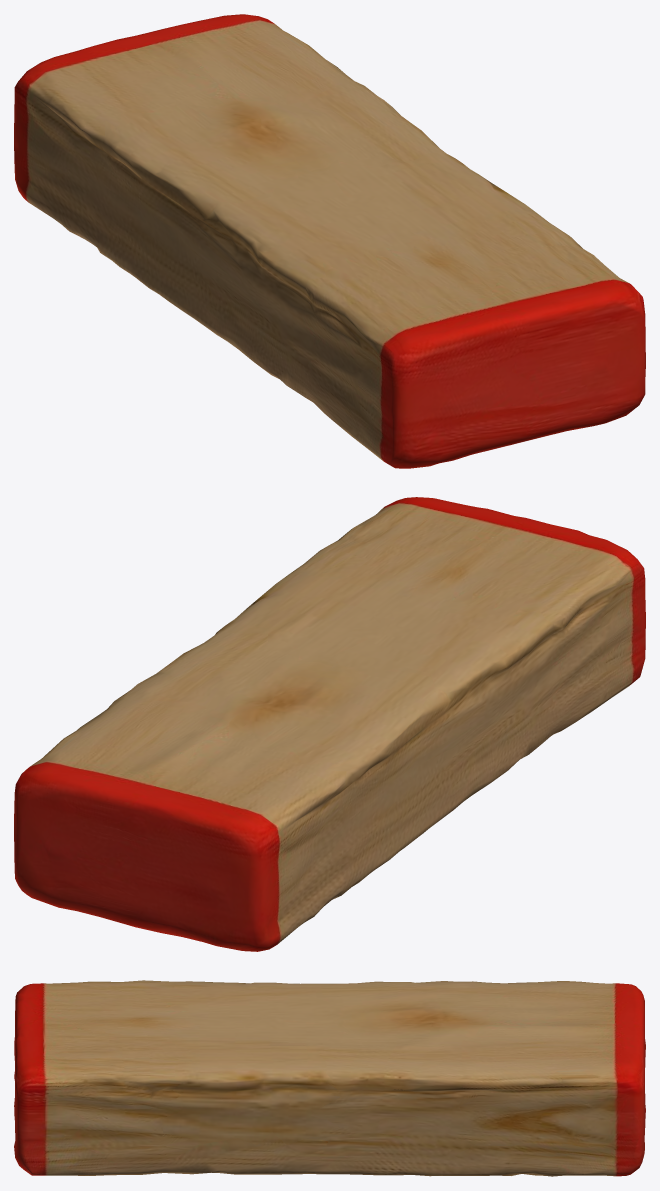
Rendered from seesaw-board.glb.
3 views of the same model, one above another, from view 1: azimuth 30°, elevation 25°; view 2: azimuth 150°, elevation 25°; view 3: azimuth 270°, elevation 25° (orthographic). The views are drawn at different scales.
Visible parts, largest first — view 1: tripo_node_3c616331-ab6d-4cbf-9571-e14e854fd310; view 2: tripo_node_3c616331-ab6d-4cbf-9571-e14e854fd310; view 3: tripo_node_3c616331-ab6d-4cbf-9571-e14e854fd310.
Boxes of the visible parts, x1=… form: tripo_node_3c616331-ab6d-4cbf-9571-e14e854fd310: x1=14, y1=14, x2=645, y2=468; tripo_node_3c616331-ab6d-4cbf-9571-e14e854fd310: x1=14, y1=497, x2=645, y2=951; tripo_node_3c616331-ab6d-4cbf-9571-e14e854fd310: x1=14, y1=980, x2=645, y2=1176.
Bounding box in the file's own units: 0.3772 × 0.1955 × 1.
Materials: 1 (1 with a texture image).
